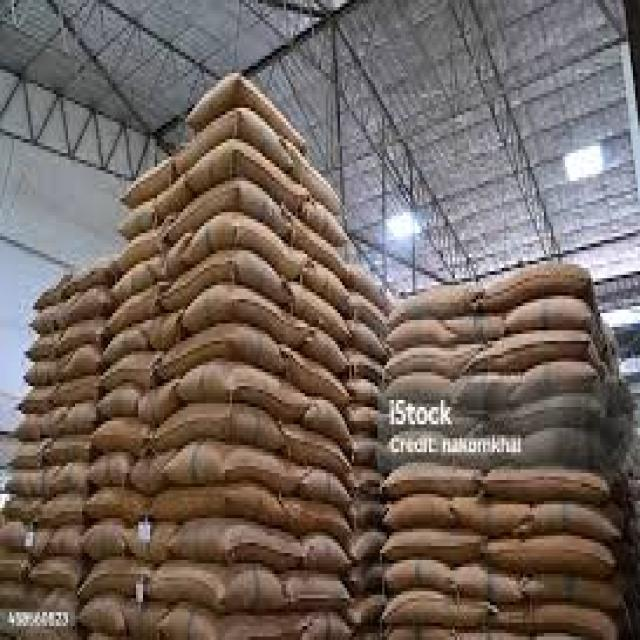cement_bag: (196, 71, 309, 153), (161, 249, 282, 317), (468, 496, 627, 543), (179, 113, 291, 177), (163, 223, 295, 277), (162, 325, 278, 379), (151, 565, 284, 612), (175, 186, 285, 242), (185, 374, 305, 416), (489, 325, 593, 372), (173, 527, 301, 565), (157, 485, 284, 522), (491, 266, 583, 313), (496, 546, 611, 583), (293, 219, 359, 282), (490, 471, 607, 504), (175, 459, 298, 490), (390, 529, 485, 567), (388, 344, 476, 383), (395, 285, 472, 329), (287, 426, 354, 473), (290, 348, 347, 403), (166, 419, 277, 447), (299, 153, 347, 217), (523, 362, 591, 407), (389, 468, 472, 504), (295, 285, 352, 336), (532, 605, 621, 637), (396, 597, 486, 628), (81, 563, 145, 602), (121, 157, 170, 205), (517, 301, 588, 334), (88, 489, 147, 527), (97, 353, 152, 393), (110, 285, 152, 337), (114, 224, 156, 273), (288, 574, 343, 610), (292, 501, 349, 534), (60, 282, 105, 323), (304, 468, 352, 504), (84, 527, 132, 557), (96, 426, 152, 450), (60, 325, 103, 355), (47, 435, 91, 463), (2, 468, 35, 503), (23, 358, 54, 388), (34, 565, 74, 588), (48, 496, 81, 523)
